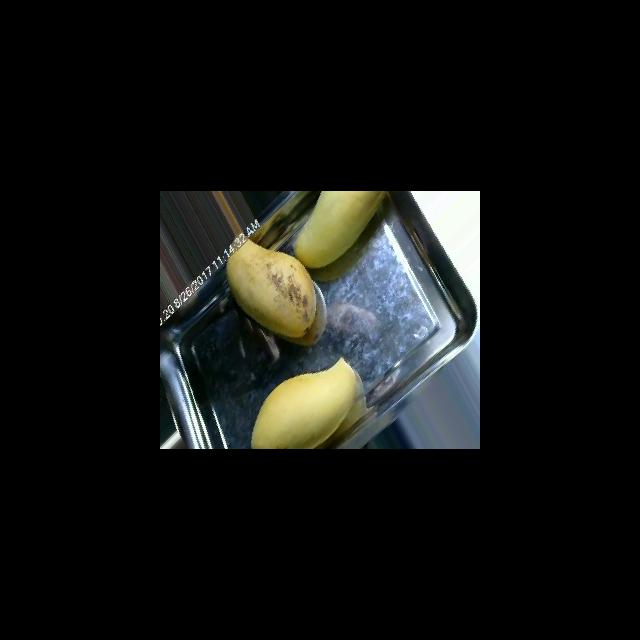Mango: (250, 356, 366, 448), (225, 238, 316, 338), (293, 191, 388, 269)
